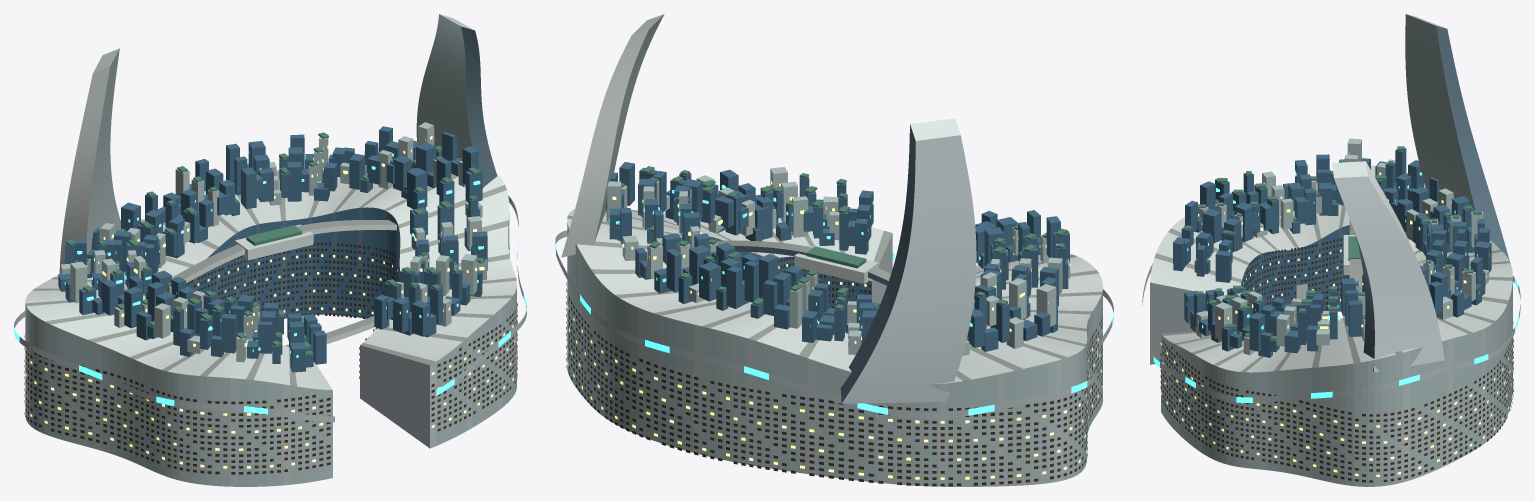
File: G4E7BT_INHABITED_TIDAL_FOLD_ART_ONLY.glb
The picture shows the model from 3 angles, left to right: view 1: azimuth 30°, elevation 25°; view 2: azimuth 150°, elevation 25°; view 3: azimuth 270°, elevation 25°; orthographic projection. The views are drawn at different scales.
Visible parts, largest first — view 1: CENTRAL INHABITED CITY FOLD | one connected 1.15km volume, True embedded glazed urban facade / fine window rhythm, East fractured residential counter-mantle, West inhabited uplifting folded mantle / hero silhouette, Permanent physically modelled orbital rail on inhabited wall, Transit artery: occupied 600m cross-void skybridge, Central public council suspended above skyrail, Distinct inhabited urban block 1 / level 2, Distinct inhabited urban block 73 / level 2, Distinct inhabited urban block 43 / level 0, Distinct inhabited urban block 83 / level 2, Deep public exchange across hollow canyon (+6 smaller); view 2: CENTRAL INHABITED CITY FOLD | one connected 1.15km volume, West inhabited uplifting folded mantle / hero silhouette, True embedded glazed urban facade / fine window rhythm, East fractured residential counter-mantle, Permanent physically modelled orbital rail on inhabited wall, Central public council suspended above skyrail, Transit artery: occupied 600m cross-void skybridge, Distinct inhabited urban block 41 / level 2, Distinct inhabited urban block 43 / level 2, Elevated terraced botanical city court, Distinct inhabited urban block 68 / level 2, Distinct inhabited urban block 38 / level 2; view 3: CENTRAL INHABITED CITY FOLD | one connected 1.15km volume, East fractured residential counter-mantle, West inhabited uplifting folded mantle / hero silhouette, True embedded glazed urban facade / fine window rhythm, Permanent physically modelled orbital rail on inhabited wall, Distinct inhabited urban block 23 / level 2, Distinct inhabited urban block 13 / level 2, Distinct inhabited urban block 86 / level 1, Distinct inhabited urban block 91 / level 0, Distinct inhabited urban block 83 / level 0, Distinct inhabited urban block 8 / level 2, Distinct inhabited urban block 71 / level 0.
Boxes of the visible parts, x1,y1,x2,y2 form: CENTRAL INHABITED CITY FOLD | one connected 1.15km volume: (25, 167, 516, 486); True embedded glazed urban facade / fine window rhythm: (24, 242, 517, 474); East fractured residential counter-mantle: (416, 14, 497, 187); West inhabited uplifting folded mantle / hero silhouette: (59, 48, 120, 278); Permanent physically modelled orbital rail on inhabited wall: (14, 195, 526, 422); Transit artery: occupied 600m cross-void skybridge: (172, 220, 396, 283); Central public council suspended above skyrail: (235, 224, 313, 260); Distinct inhabited urban block 1 / level 2: (411, 300, 430, 336); Distinct inhabited urban block 73 / level 2: (124, 286, 142, 328); Distinct inhabited urban block 43 / level 0: (241, 167, 256, 209); Distinct inhabited urban block 83 / level 2: (221, 313, 236, 353); Deep public exchange across hollow canyon: (285, 316, 374, 347); CENTRAL INHABITED CITY FOLD | one connected 1.15km volume: (567, 209, 1102, 486); West inhabited uplifting folded mantle / hero silhouette: (840, 118, 976, 403); True embedded glazed urban facade / fine window rhythm: (566, 257, 1102, 486); East fractured residential counter-mantle: (561, 14, 664, 257); Permanent physically modelled orbital rail on inhabited wall: (555, 230, 1113, 418); Central public council suspended above skyrail: (794, 245, 878, 283); Transit artery: occupied 600m cross-void skybridge: (717, 240, 890, 285); Distinct inhabited urban block 41 / level 2: (699, 262, 720, 301); Distinct inhabited urban block 43 / level 2: (726, 266, 742, 308); Elevated terraced botanical city court: (806, 246, 866, 268); Distinct inhabited urban block 68 / level 2: (1036, 284, 1056, 326); Distinct inhabited urban block 38 / level 2: (666, 249, 681, 292); CENTRAL INHABITED CITY FOLD | one connected 1.15km volume: (1150, 165, 1512, 486); East fractured residential counter-mantle: (1332, 161, 1444, 372); West inhabited uplifting folded mantle / hero silhouette: (1405, 14, 1509, 260); True embedded glazed urban facade / fine window rhythm: (1160, 238, 1513, 482); Permanent physically modelled orbital rail on inhabited wall: (1142, 263, 1520, 402); Distinct inhabited urban block 23 / level 2: (1348, 300, 1362, 336); Distinct inhabited urban block 13 / level 2: (1249, 312, 1265, 351); Distinct inhabited urban block 86 / level 1: (1202, 209, 1221, 243); Distinct inhabited urban block 91 / level 0: (1215, 250, 1231, 282); Distinct inhabited urban block 83 / level 0: (1234, 202, 1253, 242); Distinct inhabited urban block 8 / level 2: (1215, 302, 1232, 340); Distinct inhabited urban block 71 / level 0: (1318, 182, 1332, 215).
Bounding box in the file's own units: 1178 × 765 × 843.
Materials: 11 (1 with a texture image).
